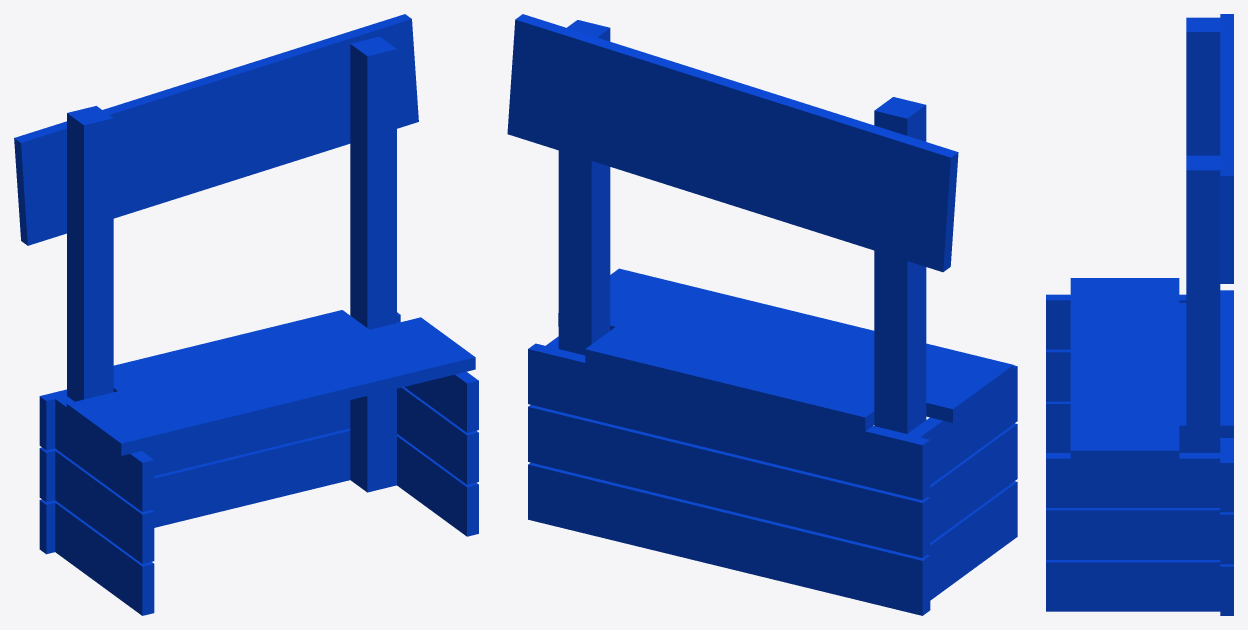
The model's file is Envi_LemonadeStand_v02.fbx.
The picture shows the model from 3 angles, left to right: view 1: azimuth 30°, elevation 25°; view 2: azimuth 150°, elevation 25°; view 3: azimuth 270°, elevation 25°; orthographic projection. The views are drawn at different scales.
Parts seen in each view (by area): view 1: Truck_Ex_Set01_LemonaidStand_WoodPlank_Sign, Truck_Ex_Set01_LemonaidStand_WoodStand_01, Truck_Ex_Set01_LemonaidStand_WoodPlank_Top_03, Truck_Ex_Set01_LemonaidStand_WoodStand_02, Truck_Ex_Set01_LemonaidStand_WoodPlank_Front_01, Truck_Ex_Set01_LemonaidStand_WoodPlank_Top_02, Truck_Ex_Set01_LemonaidStand_WoodPlank_Front_02, Truck_Ex_Set01_LemonaidStand_WoodPlank_Top_01, Truck_Ex_Set01_LemonaidStand_WoodPlank_Side_02, Truck_Ex_Set01_LemonaidStand_WoodPlank_Side_01, Truck_Ex_Set01_LemonaidStand_WoodPlank_Side_03, Truck_Ex_Set01_LemonaidStand_WoodPlank_Side_04 (+3 smaller); view 2: Truck_Ex_Set01_LemonaidStand_WoodPlank_Sign, Truck_Ex_Set01_LemonaidStand_WoodPlank_Front_01, Truck_Ex_Set01_LemonaidStand_WoodPlank_Front_02, Truck_Ex_Set01_LemonaidStand_WoodPlank_Front_03, Truck_Ex_Set01_LemonaidStand_WoodPlank_Top_01, Truck_Ex_Set01_LemonaidStand_WoodStand_02, Truck_Ex_Set01_LemonaidStand_WoodPlank_Top_03, Truck_Ex_Set01_LemonaidStand_WoodStand_01, Truck_Ex_Set01_LemonaidStand_WoodPlank_Top_02, Truck_Ex_Set01_LemonaidStand_WoodPlank_Side_01, Truck_Ex_Set01_LemonaidStand_WoodPlank_Side_02, Truck_Ex_Set01_LemonaidStand_WoodPlank_Side_03; view 3: Truck_Ex_Set01_LemonaidStand_WoodStand_01, Truck_Ex_Set01_LemonaidStand_WoodPlank_Top_03, Truck_Ex_Set01_LemonaidStand_WoodPlank_Top_02, Truck_Ex_Set01_LemonaidStand_WoodPlank_Side_05, Truck_Ex_Set01_LemonaidStand_WoodPlank_Side_04, Truck_Ex_Set01_LemonaidStand_WoodPlank_Side_06, Truck_Ex_Set01_LemonaidStand_WoodStand_02, Truck_Ex_Set01_LemonaidStand_WoodPlank_Sign, Truck_Ex_Set01_LemonaidStand_WoodPlank_Top_01, Truck_Ex_Set01_LemonaidStand_WoodPlank_Side_03, Truck_Ex_Set01_LemonaidStand_WoodPlank_Side_01, Truck_Ex_Set01_LemonaidStand_WoodPlank_Side_02 (+3 smaller).
Part boxes in pixels (<box>): Truck_Ex_Set01_LemonaidStand_WoodPlank_Sign: <box>14,14,418,245</box>; Truck_Ex_Set01_LemonaidStand_WoodStand_01: <box>350,36,396,492</box>; Truck_Ex_Set01_LemonaidStand_WoodPlank_Top_03: <box>94,337,475,455</box>; Truck_Ex_Set01_LemonaidStand_WoodStand_02: <box>67,106,113,401</box>; Truck_Ex_Set01_LemonaidStand_WoodPlank_Front_01: <box>39,428,350,554</box>; Truck_Ex_Set01_LemonaidStand_WoodPlank_Top_02: <box>66,317,447,435</box>; Truck_Ex_Set01_LemonaidStand_WoodPlank_Front_02: <box>39,400,350,502</box>; Truck_Ex_Set01_LemonaidStand_WoodPlank_Top_01: <box>113,310,369,391</box>; Truck_Ex_Set01_LemonaidStand_WoodPlank_Side_02: <box>55,450,154,563</box>; Truck_Ex_Set01_LemonaidStand_WoodPlank_Side_01: <box>55,502,154,615</box>; Truck_Ex_Set01_LemonaidStand_WoodPlank_Side_03: <box>55,396,154,511</box>; Truck_Ex_Set01_LemonaidStand_WoodPlank_Side_04: <box>397,434,478,536</box>; Truck_Ex_Set01_LemonaidStand_WoodPlank_Sign: <box>507,14,958,272</box>; Truck_Ex_Set01_LemonaidStand_WoodPlank_Front_01: <box>528,462,930,615</box>; Truck_Ex_Set01_LemonaidStand_WoodPlank_Front_02: <box>528,405,930,557</box>; Truck_Ex_Set01_LemonaidStand_WoodPlank_Front_03: <box>528,343,930,500</box>; Truck_Ex_Set01_LemonaidStand_WoodPlank_Top_01: <box>585,327,874,431</box>; Truck_Ex_Set01_LemonaidStand_WoodStand_02: <box>874,97,926,433</box>; Truck_Ex_Set01_LemonaidStand_WoodPlank_Top_03: <box>610,268,1013,400</box>; Truck_Ex_Set01_LemonaidStand_WoodStand_01: <box>558,20,610,355</box>; Truck_Ex_Set01_LemonaidStand_WoodPlank_Top_02: <box>558,296,983,422</box>; Truck_Ex_Set01_LemonaidStand_WoodPlank_Side_01: <box>928,481,1017,600</box>; Truck_Ex_Set01_LemonaidStand_WoodPlank_Side_02: <box>927,423,1017,542</box>; Truck_Ex_Set01_LemonaidStand_WoodPlank_Side_03: <box>907,365,1017,484</box>; Truck_Ex_Set01_LemonaidStand_WoodStand_01: <box>1186,155,1220,452</box>; Truck_Ex_Set01_LemonaidStand_WoodPlank_Top_03: <box>1070,278,1124,462</box>; Truck_Ex_Set01_LemonaidStand_WoodPlank_Top_02: <box>1125,278,1179,462</box>; Truck_Ex_Set01_LemonaidStand_WoodPlank_Side_05: <box>1046,508,1220,559</box>; Truck_Ex_Set01_LemonaidStand_WoodPlank_Side_04: <box>1046,560,1220,611</box>; Truck_Ex_Set01_LemonaidStand_WoodPlank_Side_06: <box>1046,453,1220,507</box>; Truck_Ex_Set01_LemonaidStand_WoodStand_02: <box>1186,17,1220,155</box>; Truck_Ex_Set01_LemonaidStand_WoodPlank_Sign: <box>1220,14,1233,283</box>; Truck_Ex_Set01_LemonaidStand_WoodPlank_Top_01: <box>1179,303,1233,437</box>; Truck_Ex_Set01_LemonaidStand_WoodPlank_Side_03: <box>1046,294,1186,349</box>; Truck_Ex_Set01_LemonaidStand_WoodPlank_Side_01: <box>1046,401,1186,452</box>; Truck_Ex_Set01_LemonaidStand_WoodPlank_Side_02: <box>1046,349,1070,401</box>.
Size of the model in its own units: 43.83 by 46.94 by 17.93.
